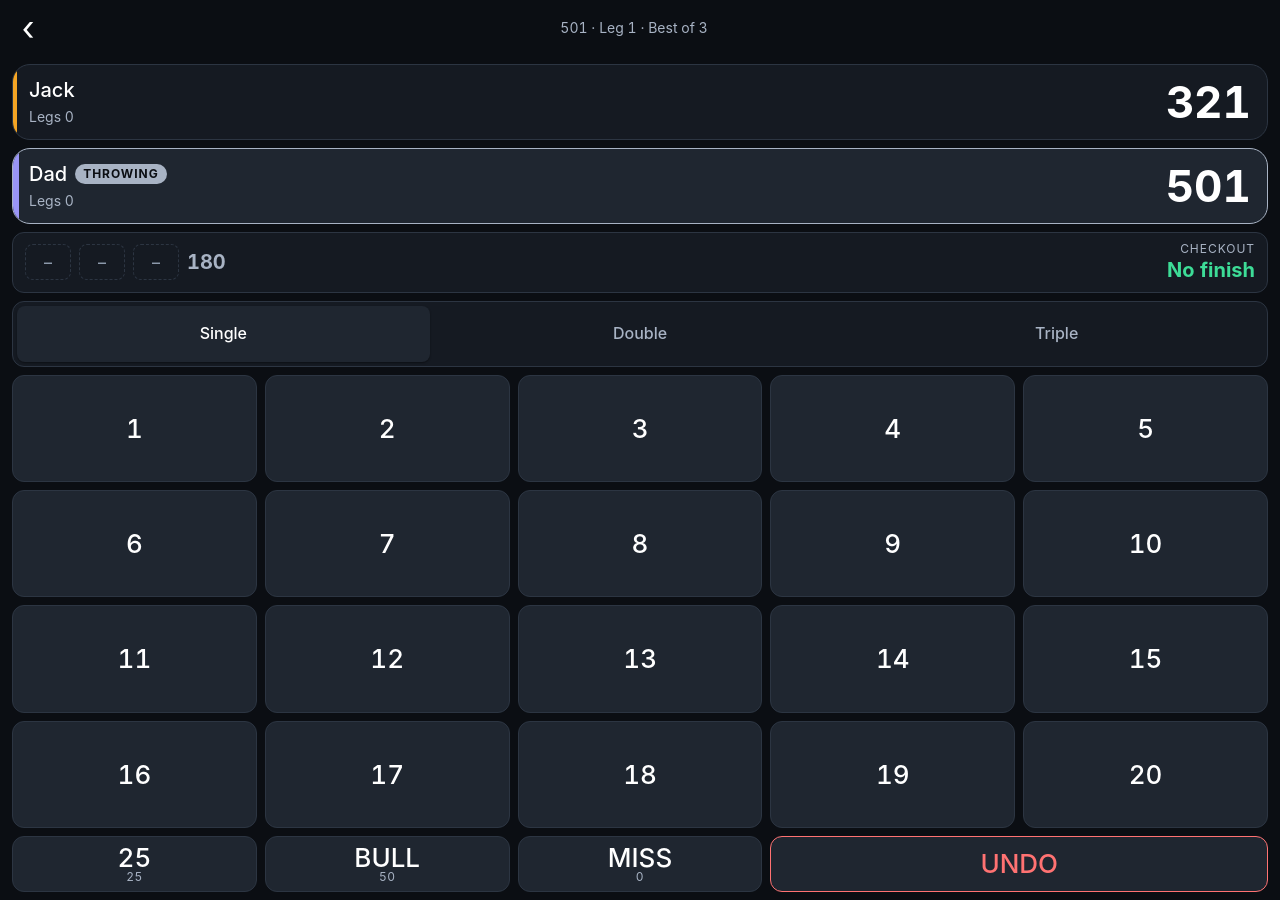
the visit strip when the turn passes › brings the previous visit back, with its darts, when its third dart is undone
Click the button "UNDO" at [1019, 864], box [770,836,1268,892]
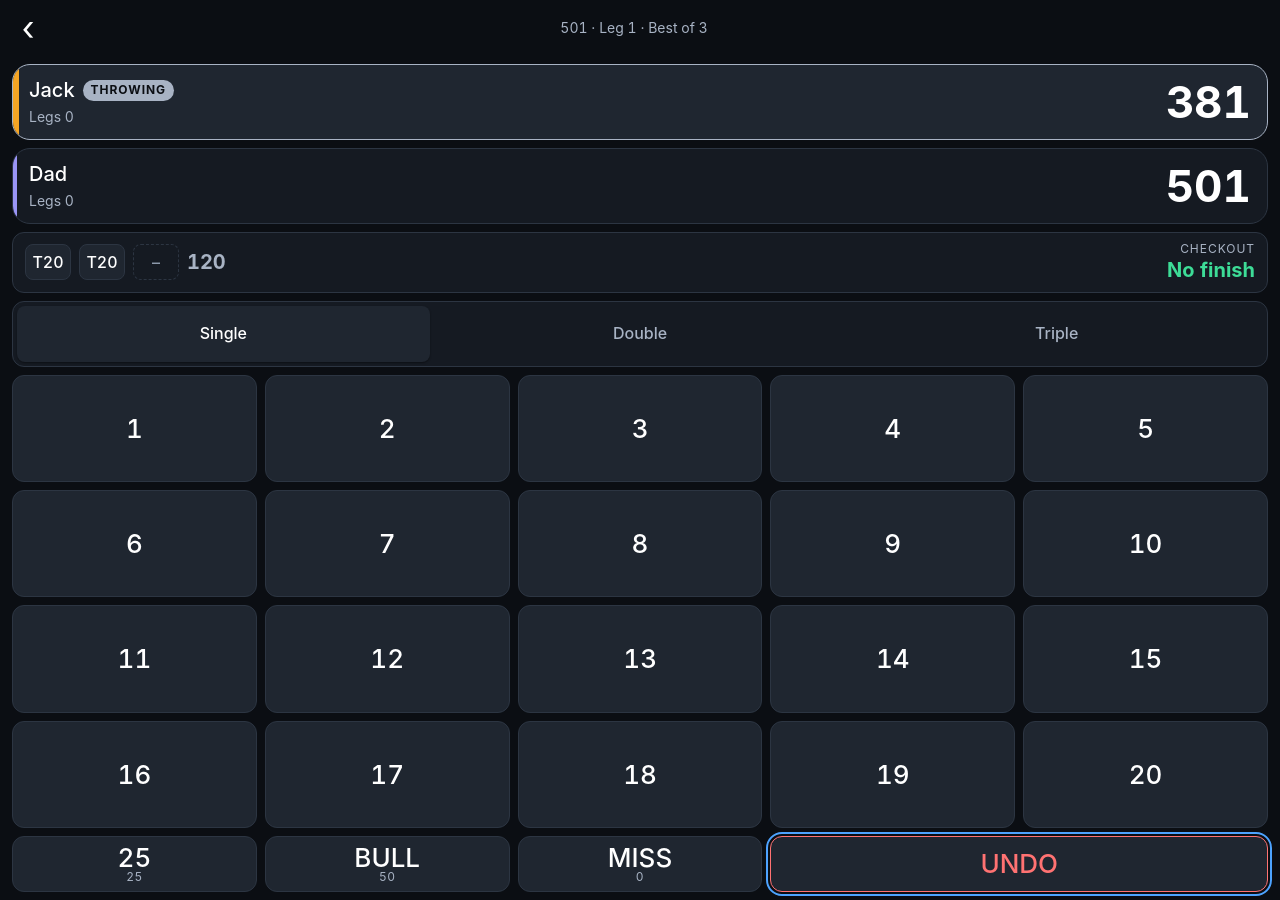
Result: the element named "Jack, 381 remaining, 0 legs won, throwing now" is shown at [12,64,1268,140]
